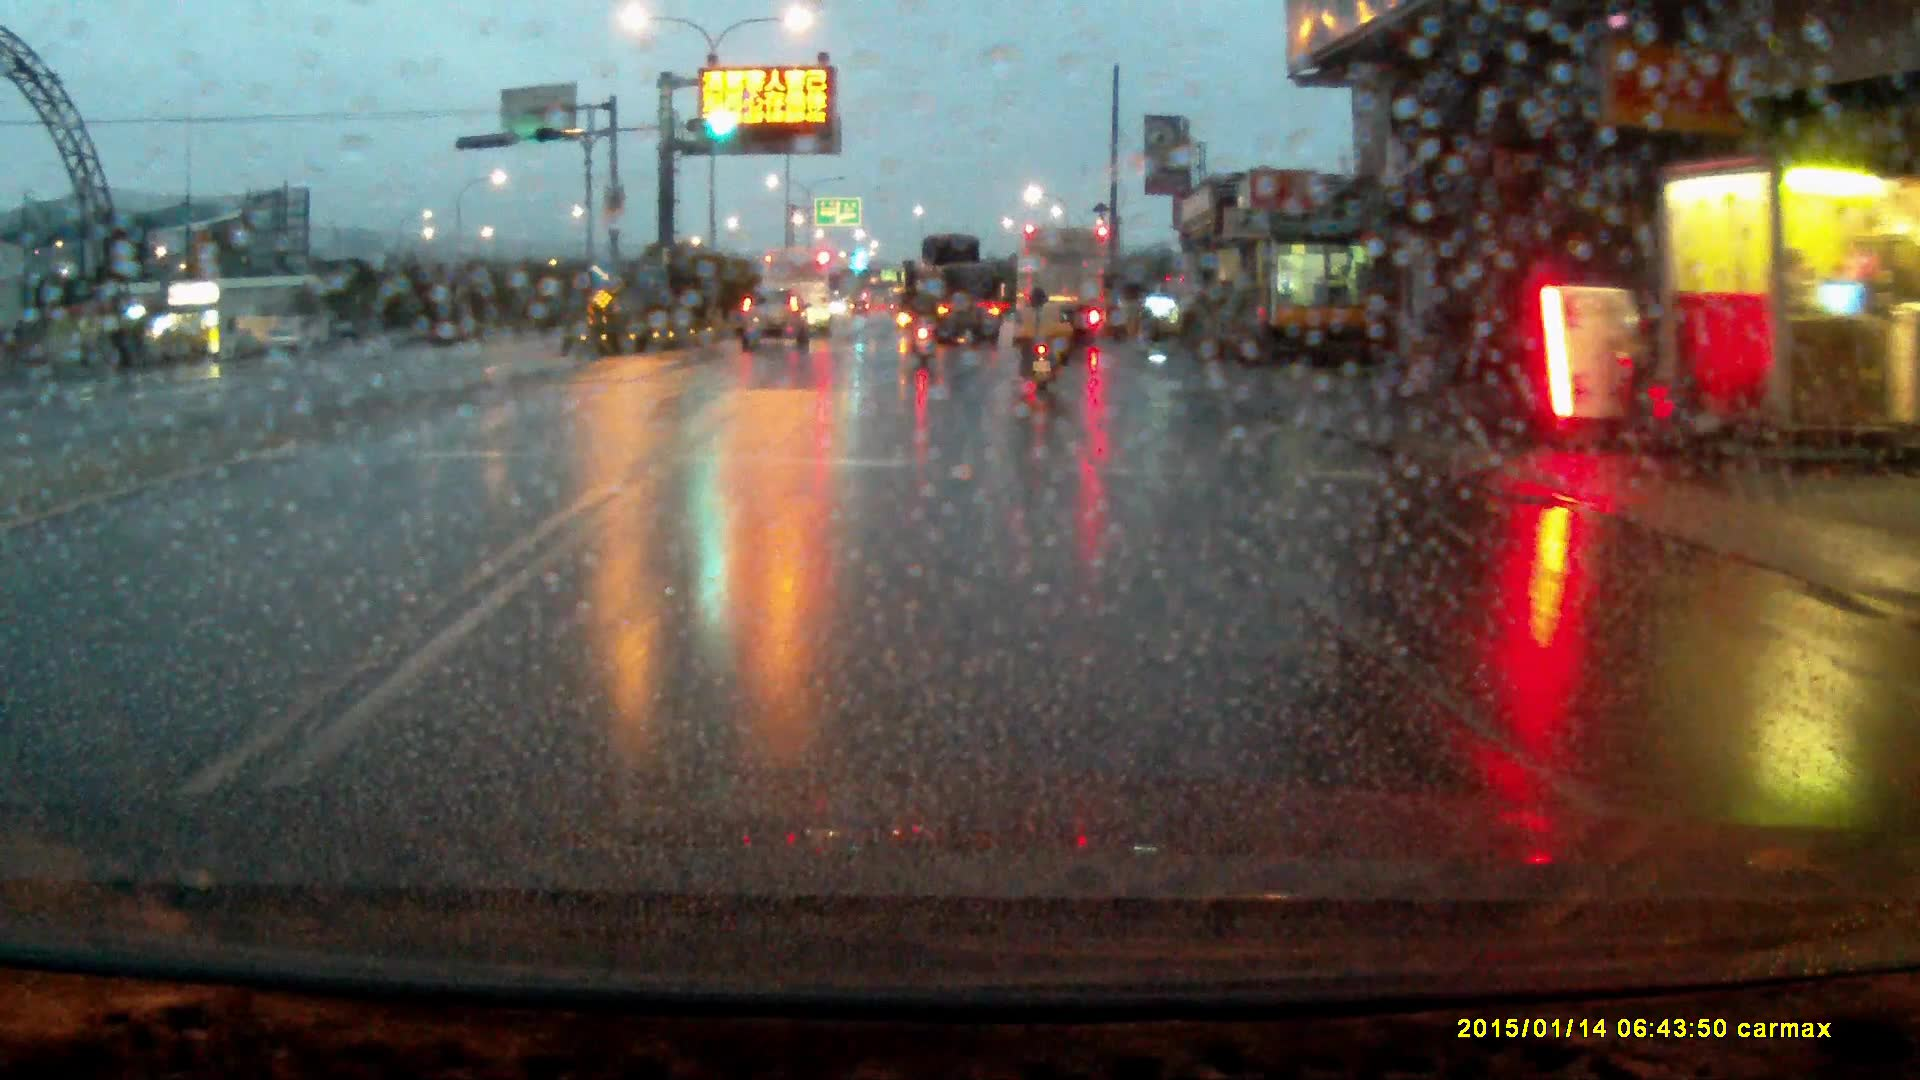rider: (1018, 287, 1065, 402), (903, 281, 940, 367)
vehicle: (1018, 222, 1113, 342), (909, 233, 1002, 347), (760, 246, 833, 336), (739, 286, 811, 351)
